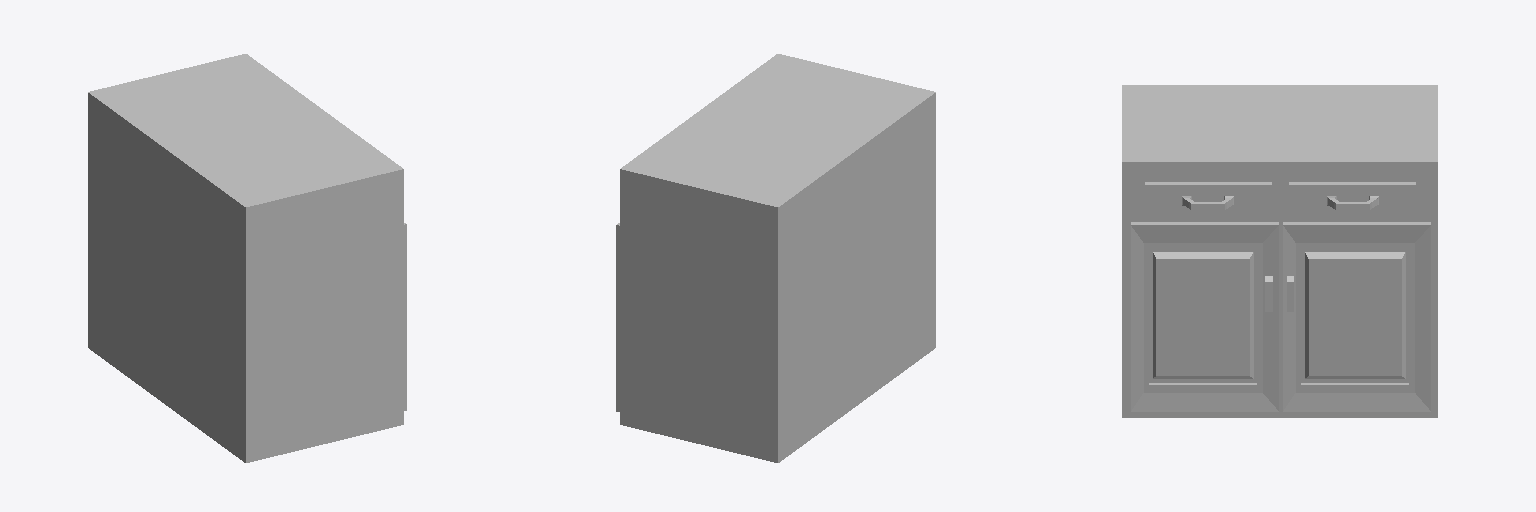
The model's file is Bancada_da_Cozinha.obj.
3 renders of one model, left to right at view 1: azimuth 30°, elevation 25°; view 2: azimuth 150°, elevation 25°; view 3: azimuth 270°, elevation 25°, orthographic.
Parts seen in each view (by area): view 1: group89; view 2: group89; view 3: group89.
Part boxes in pixels (x1,y1,x2,y2): group89: (88, 54, 406, 462); group89: (616, 54, 935, 462); group89: (1122, 85, 1437, 417).
Bounding box in the file's own units: 1.25 × 1.71 × 1.91.